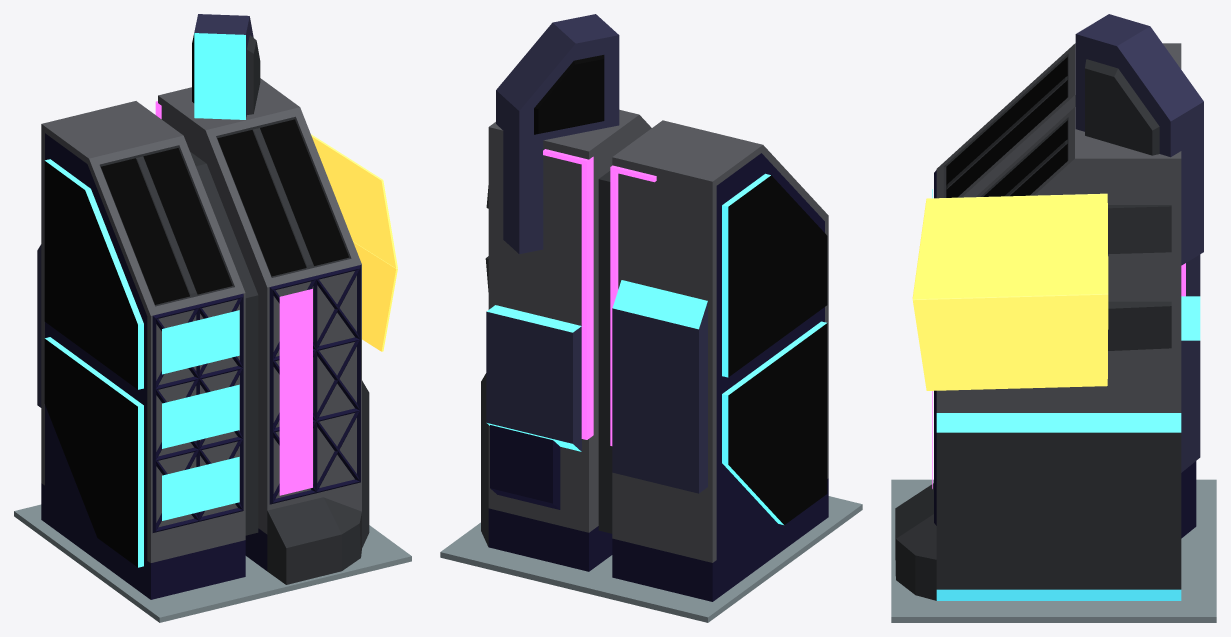
Rendered from CityHouse2.fbx.
3 renders of one model, left to right at view 1: azimuth 30°, elevation 25°; view 2: azimuth 150°, elevation 25°; view 3: azimuth 270°, elevation 25°, orthographic. The views are drawn at different scales.
Parts seen in each view (by area): view 1: Cube.631, Road.021; view 2: Cube.631, Road.021; view 3: Cube.631, Road.021.
Boxes of the visible parts, x1,y1,x2,y2 form: Cube.631: (37, 14, 397, 599); Road.021: (14, 504, 411, 622); Cube.631: (481, 14, 828, 601); Road.021: (440, 496, 862, 622); Cube.631: (895, 14, 1203, 600); Road.021: (891, 479, 1216, 622).
Size of the model in its own units: 400 by 737 by 400.
